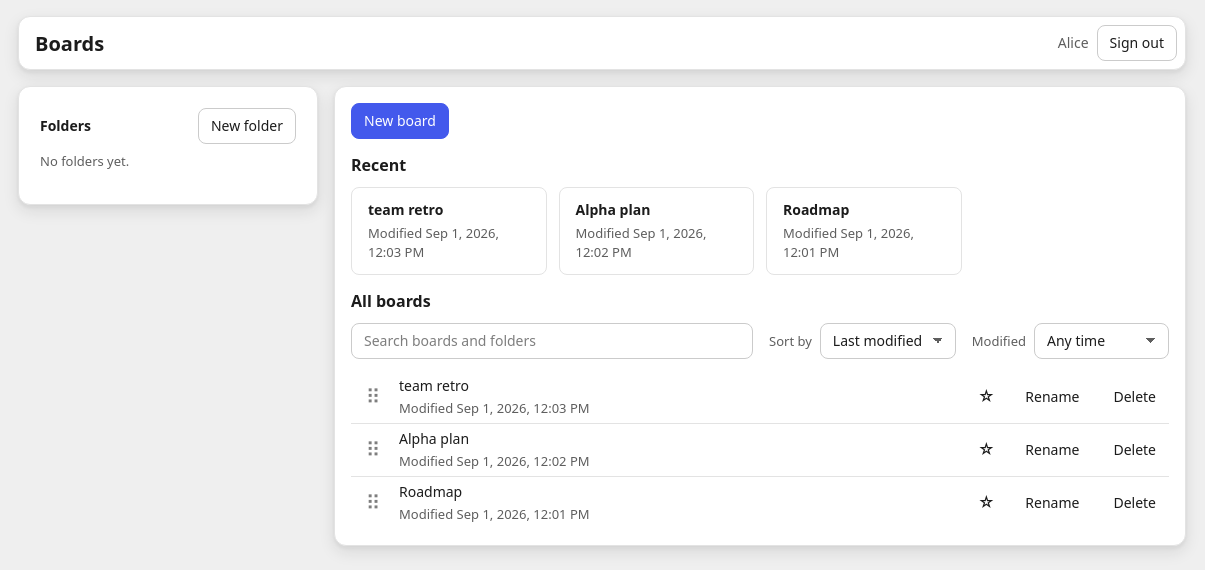
/ — создание, переименование, удаление (BRD-01…BRD-03) › BRD-02: новое название видно в полном списке и в недавних
This screenshot has width=1205, height=570.
Click the 3rd button "Rename": (1052, 503) [1012,485,1092,521]
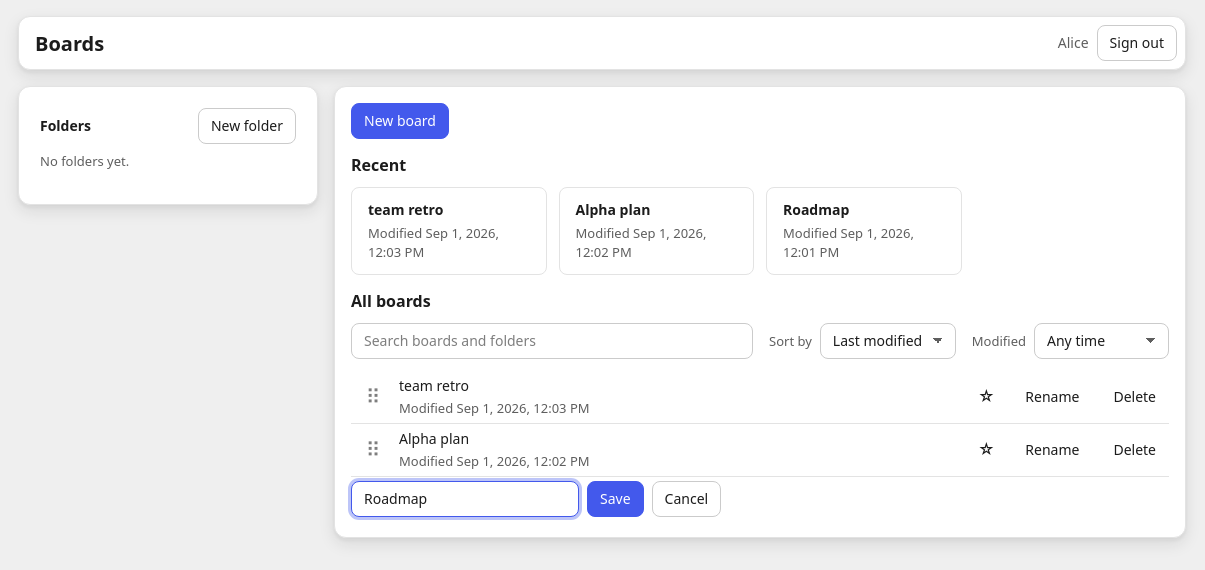
Replace the text in the field named "Board name" with "Roadmap 2027": (465, 499) [351,481,579,517]
Then press Enter
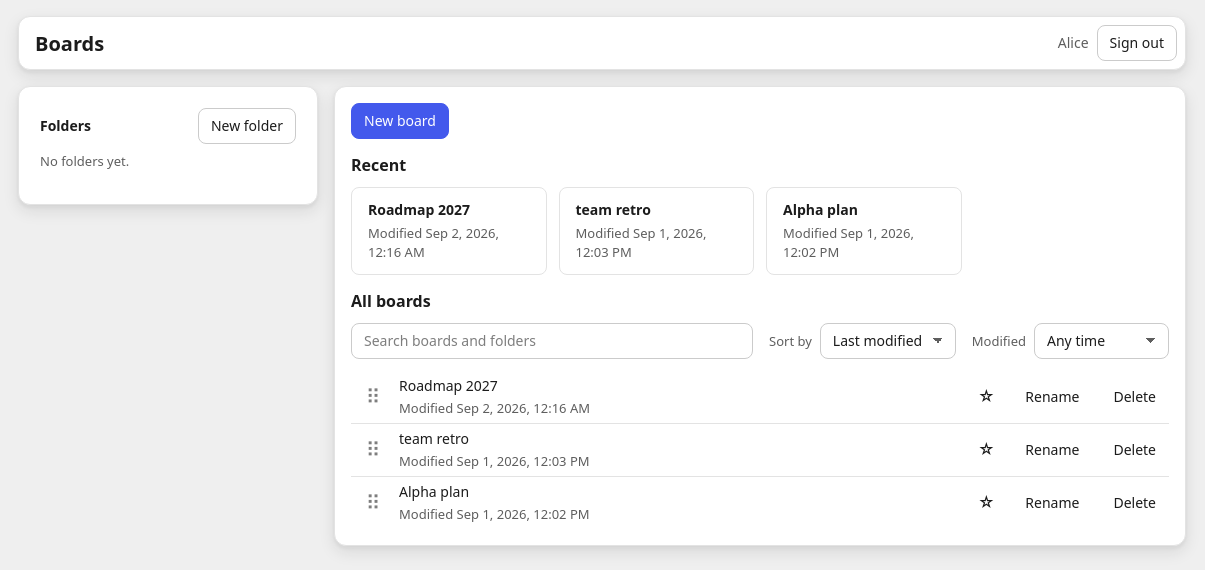
Expected: the text "Roadmap 2027" is shown, [368,200,470,219]
